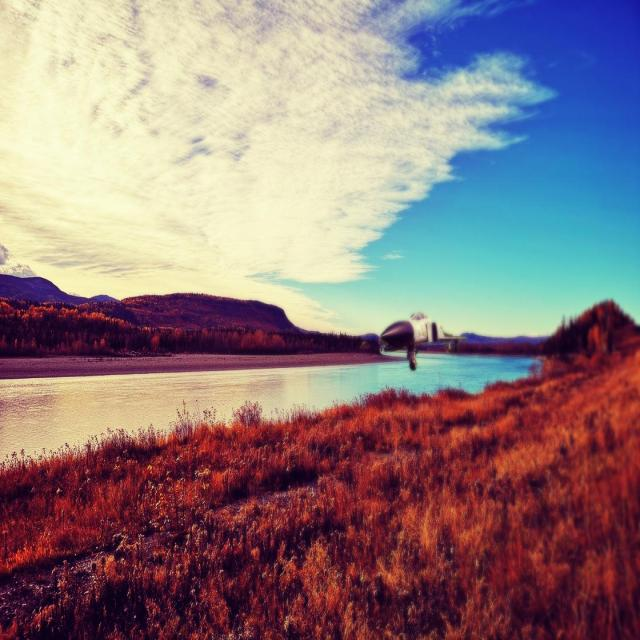airplane: (360, 311, 467, 370)
